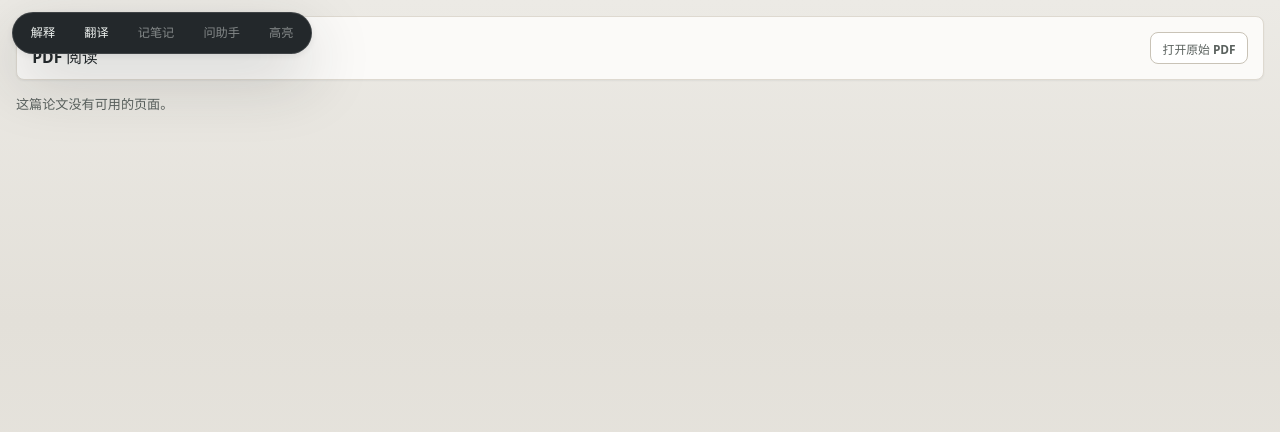
Test case: answers a missing model with guidance instead of a dead explain button
The width and height of the screenshot is (1280, 432).
Click the button "解释".
click(43, 33)  # box [18, 18, 68, 48]
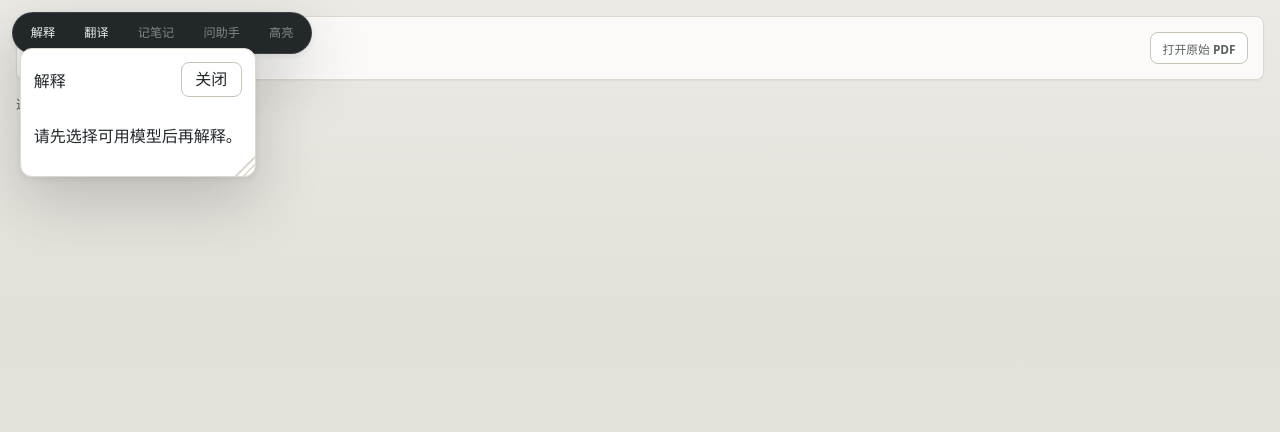
Expected: the text "请先选择可用模型后再解释。" is shown, [34, 123, 242, 147]
